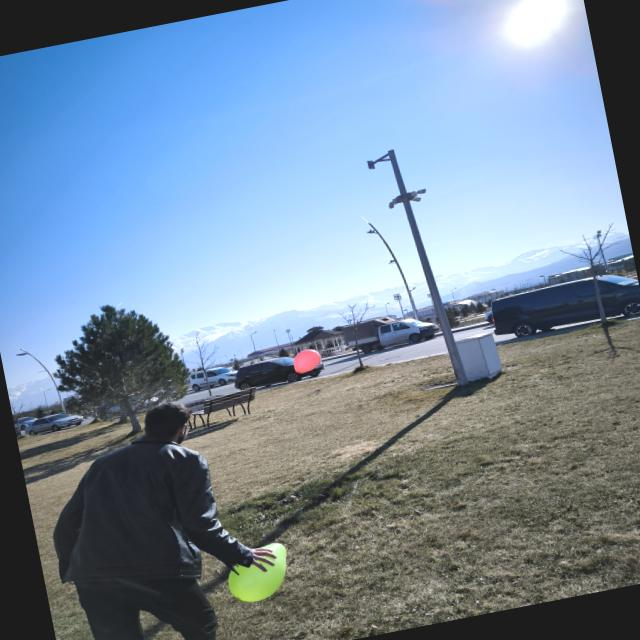balloon: (228, 543, 286, 602), (294, 349, 321, 373)
